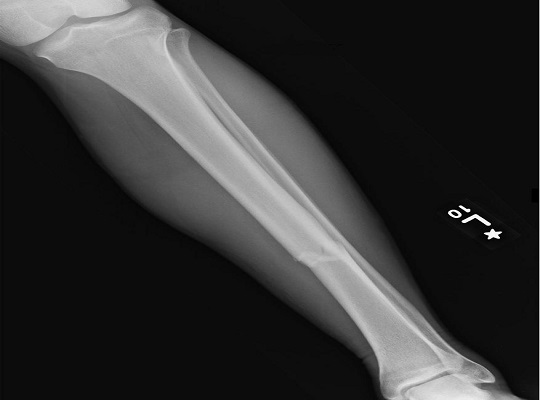fracture: (305, 248, 349, 269)
